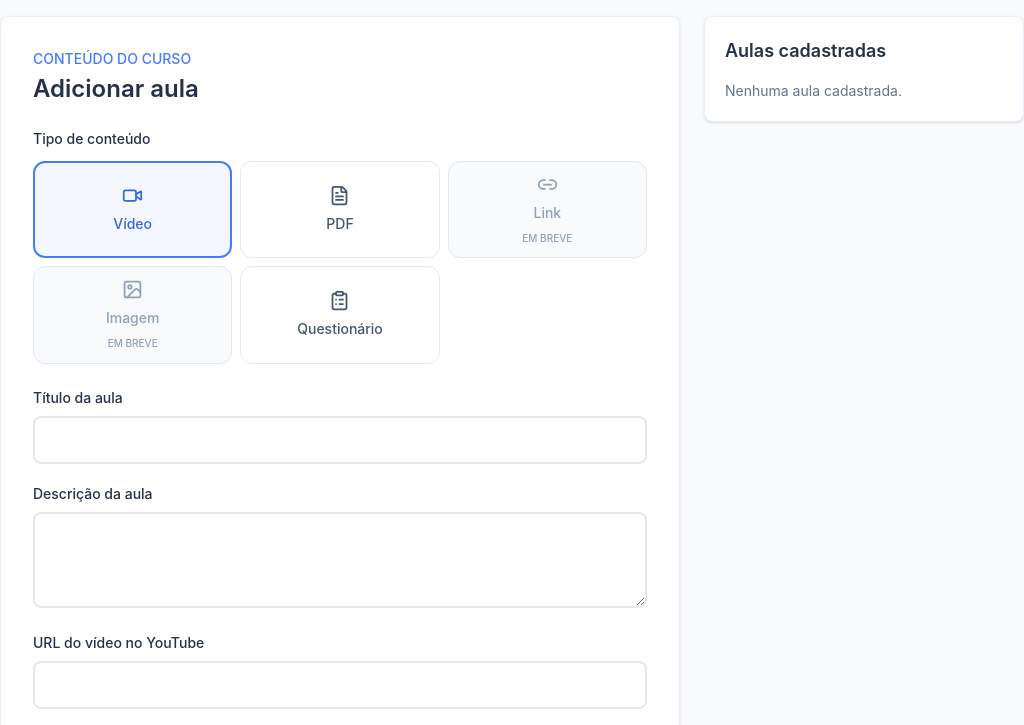
Test: CourseLessonsEditor › limpa erro de PDF ao trocar para questionário
This screenshot has width=1024, height=725.
Expected: the text "Nenhuma aula cadastrada." is shown, [725,82,902,99]
Click the button "PDF" at (340, 210), box [240,161,440,258]
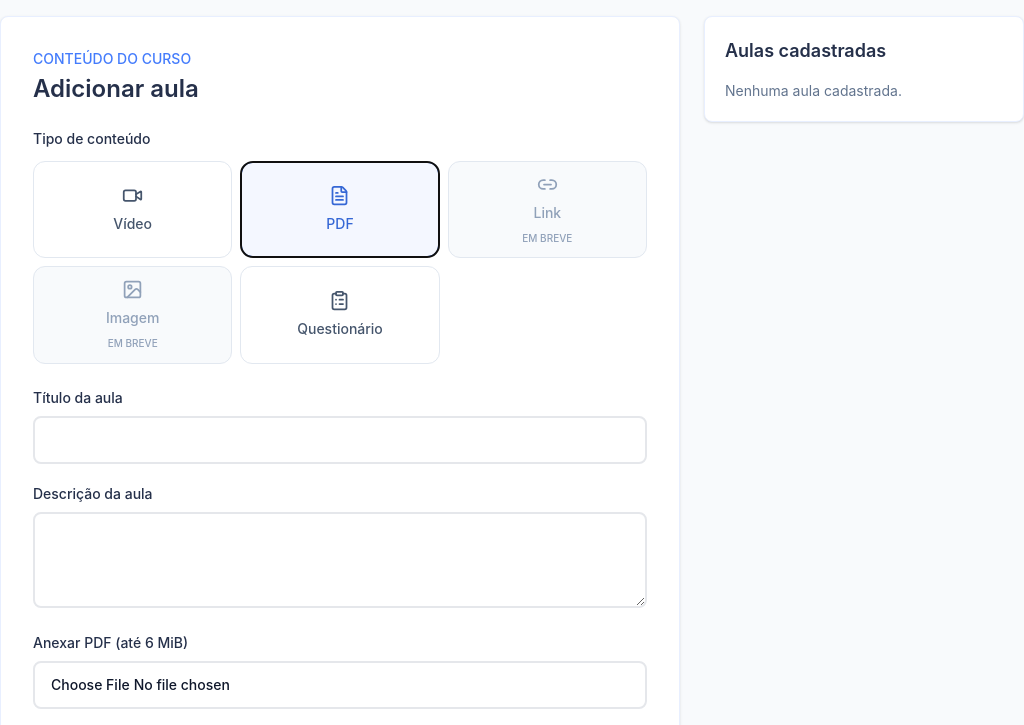
Type "Material" into the field labelled "Título da aula" at (340, 440), box [33,416,647,464]
(page scrolled)
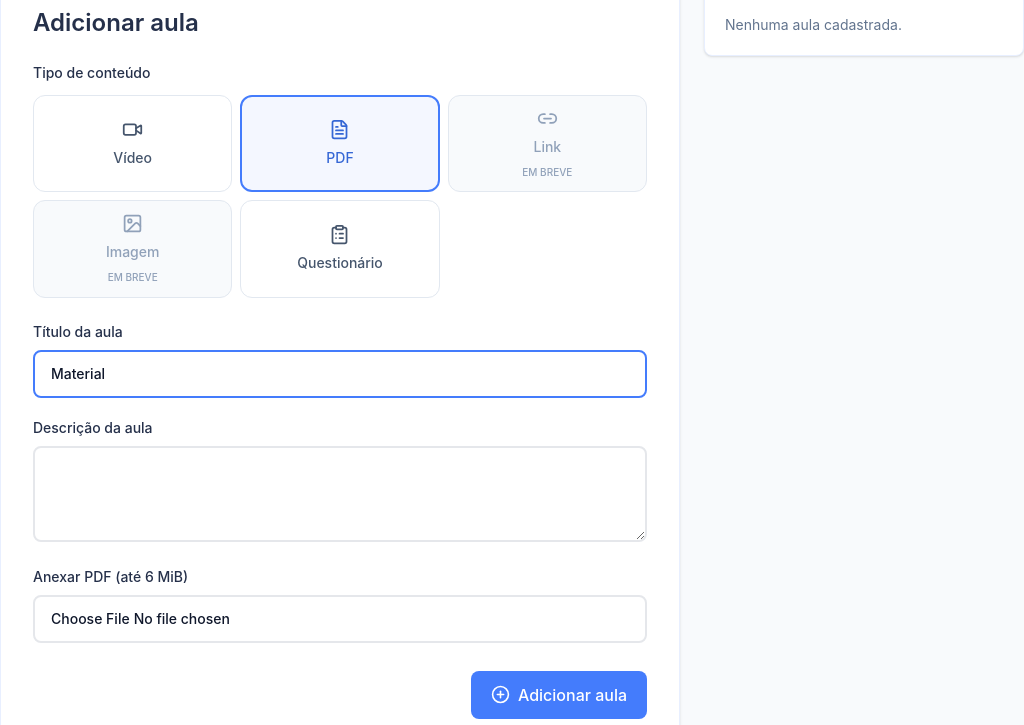
Click the button "Adicionar aula" at (559, 695), box [471,671,647,719]
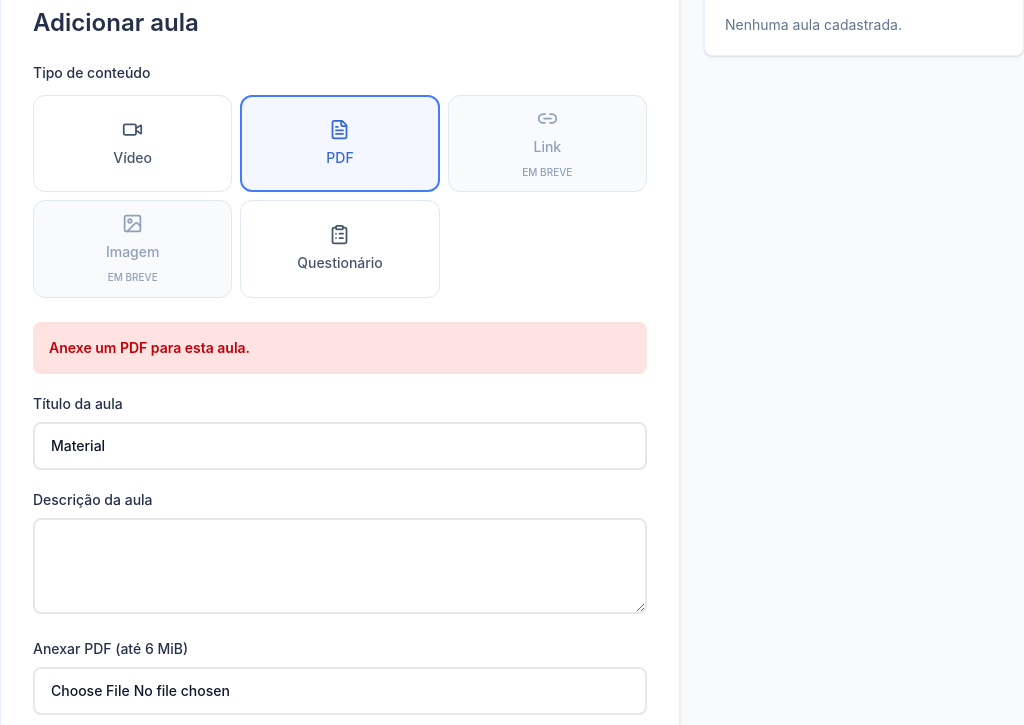
Now the text "Anexe um PDF para esta aula." is shown, box [33,322,647,374]
Click the button "Questionário" at (340, 249), box [240,200,440,298]
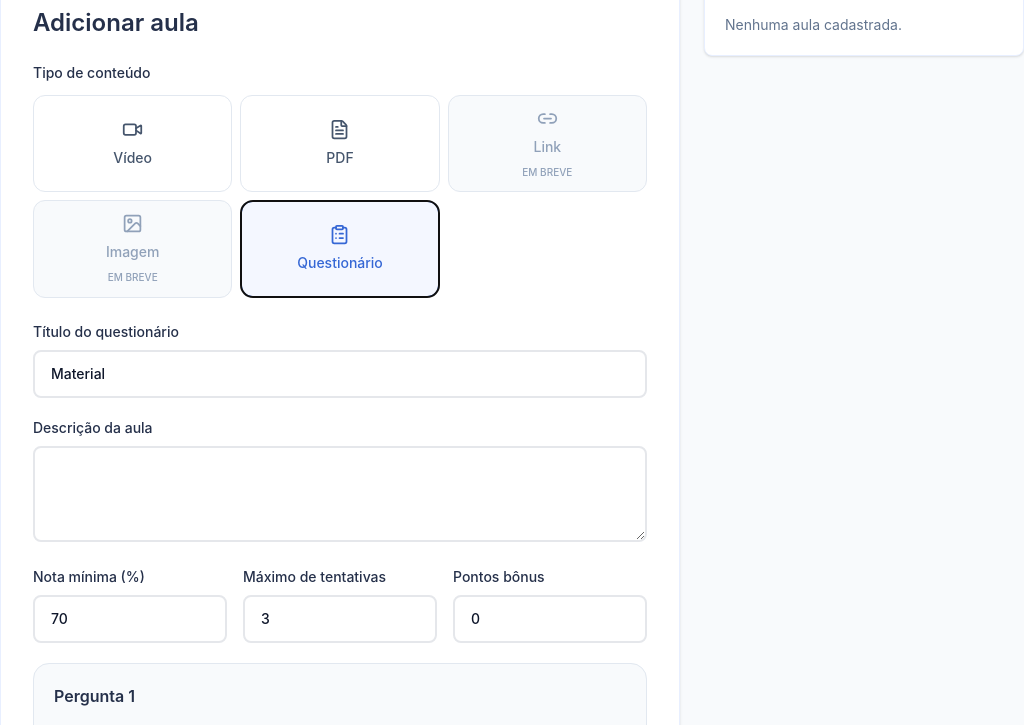
Now the text "Anexe um PDF para esta aula." is gone
